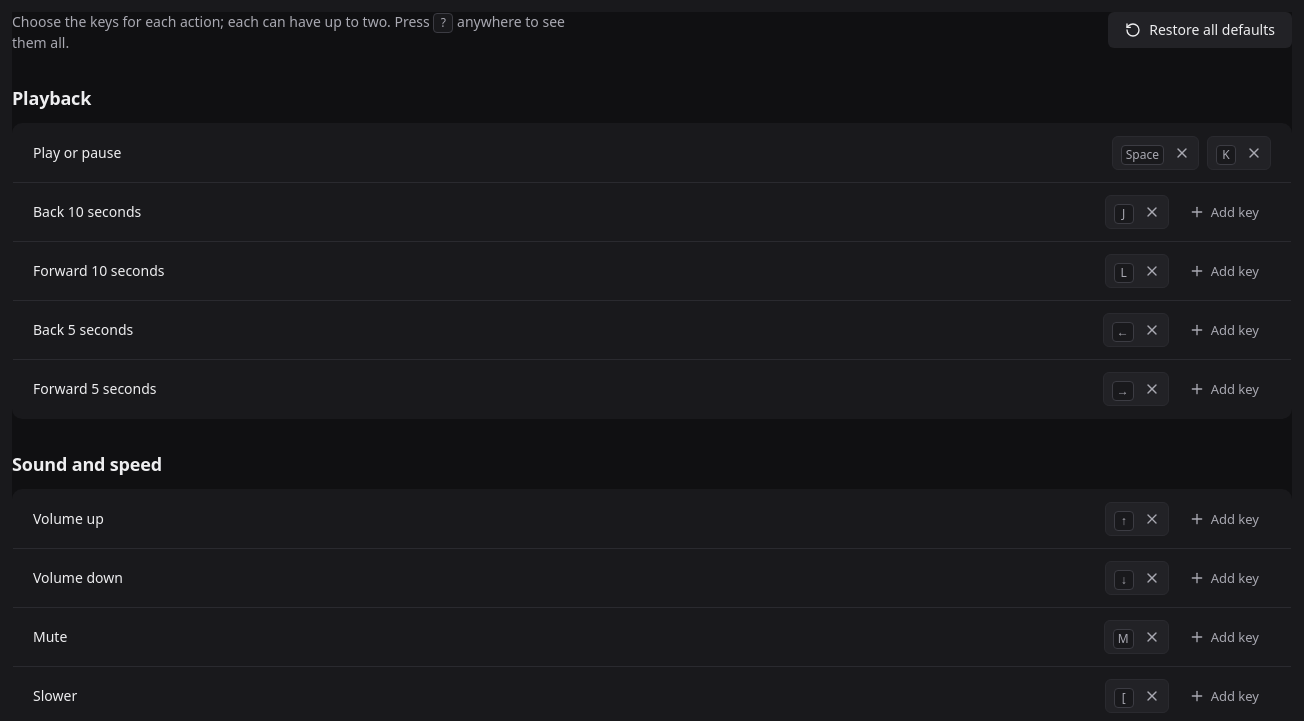
Test: ShortcutsSettings › lists the window actions with their defaults, and I as the mini player's
Click the button with aria-label "Add a key for Mute".
click(1224, 637)  # box [1177,621,1271,653]
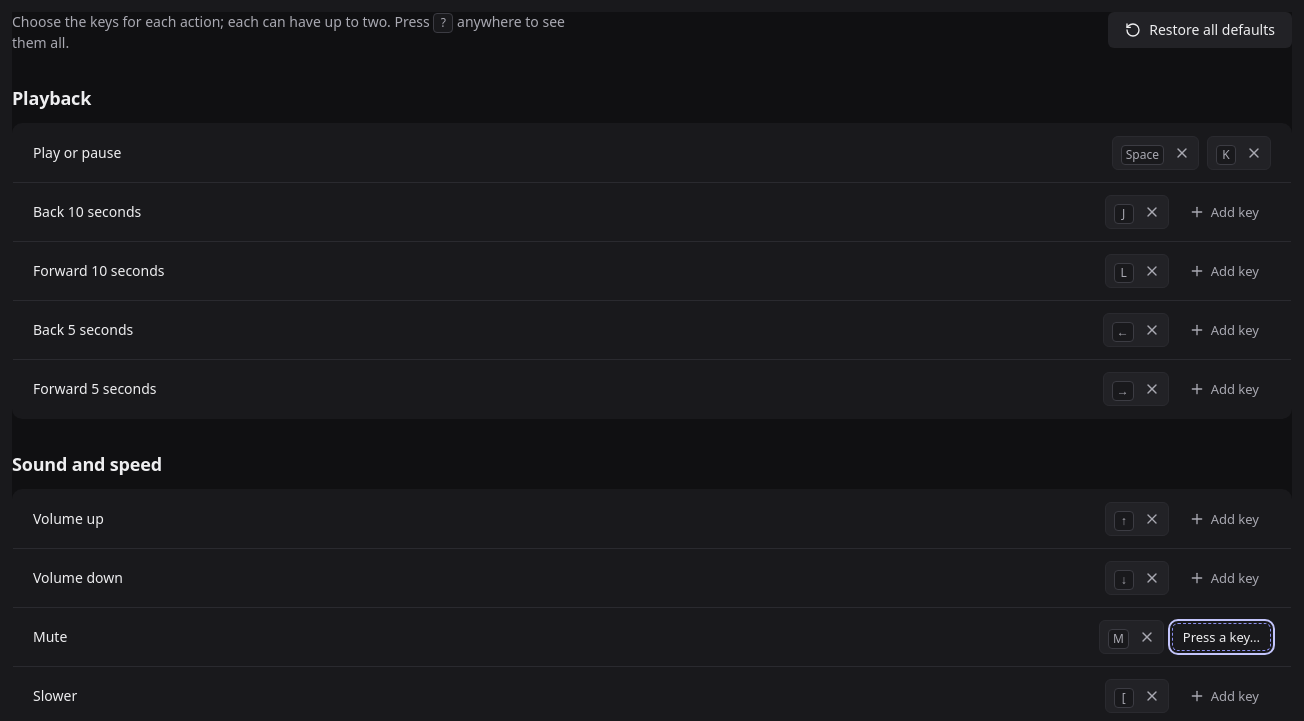
Type keys "i"
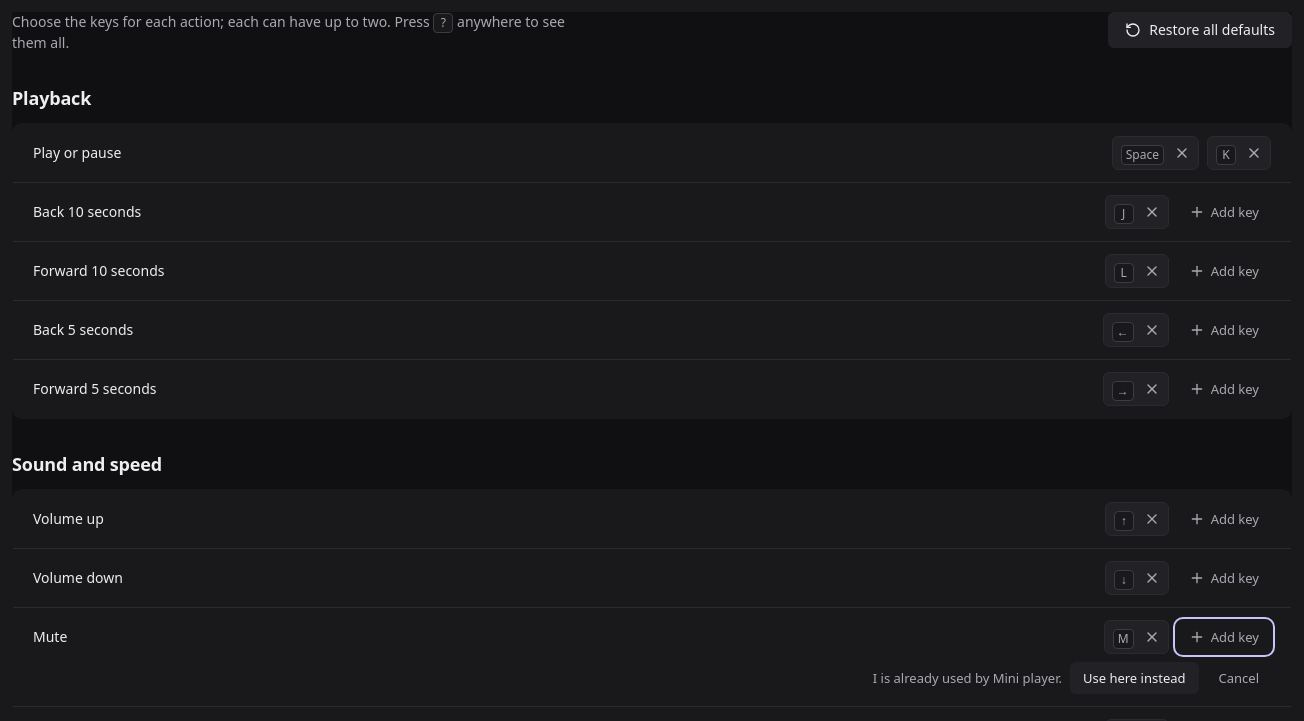
Expected: the message shows "I is already used by Mini player.", [873,662,1271,694]
